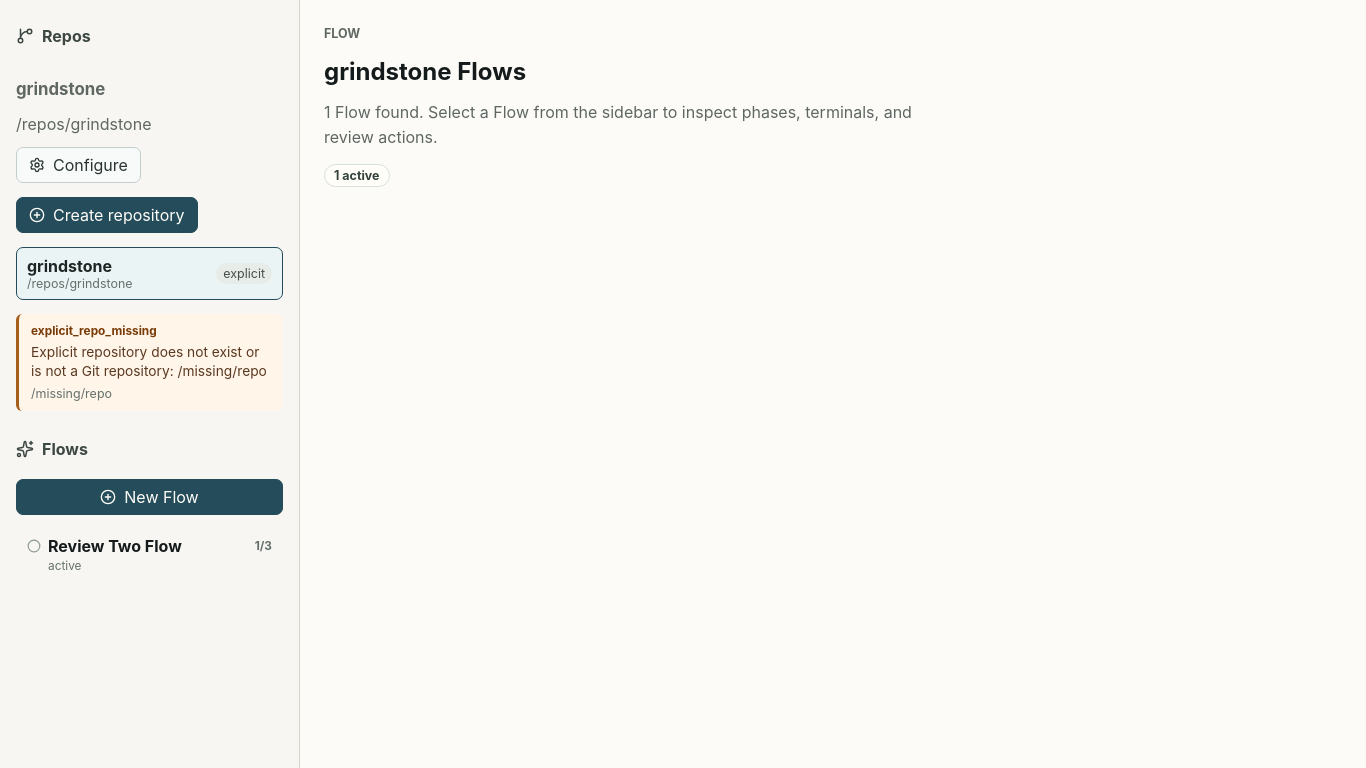
Test case: App shell › launches and completes Review Loop 2 before showing PR Creation metadata controls
Click the button "Review Two Flow 1/3 active".
click(150, 555)  # box [16, 527, 283, 582]
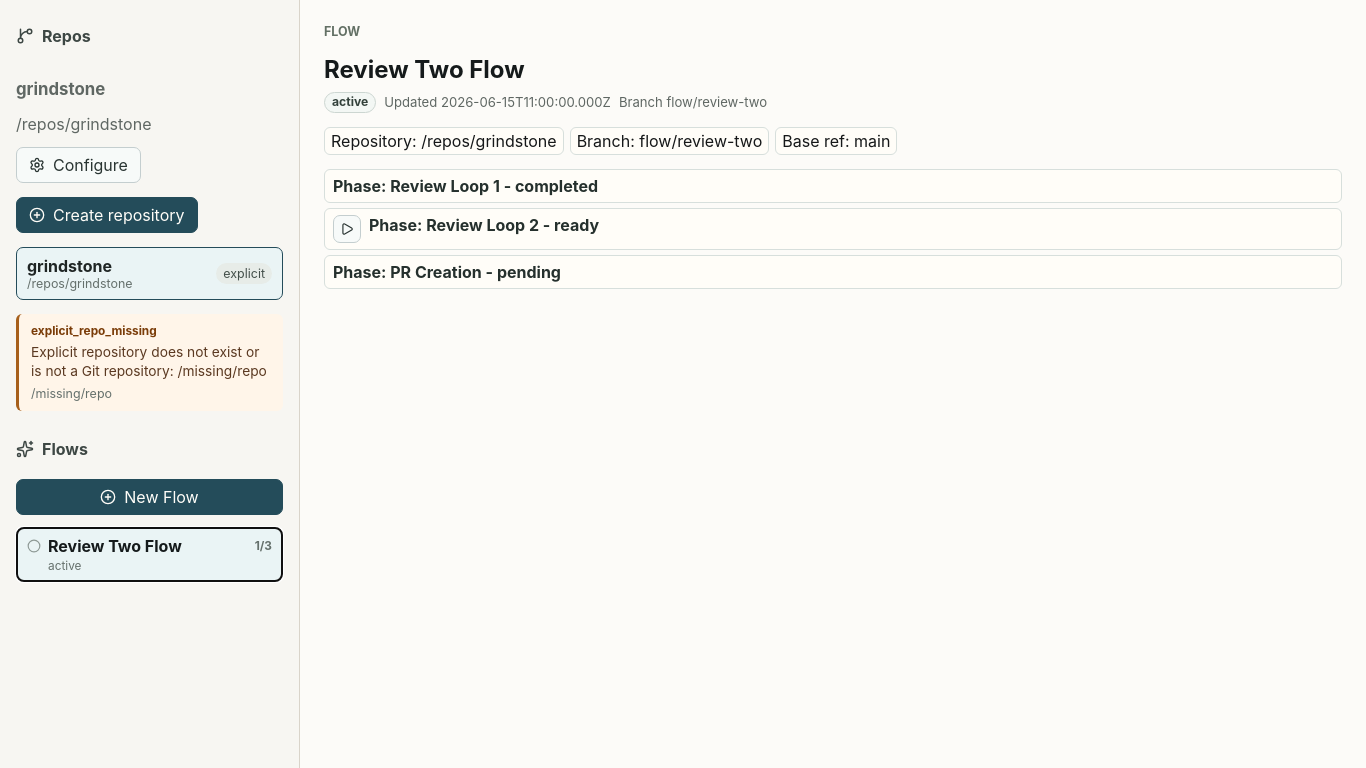
Now the button named "launch review loop 2" is shown
Click the button named "launch review loop 2".
click(347, 229)  # box [333, 215, 361, 243]
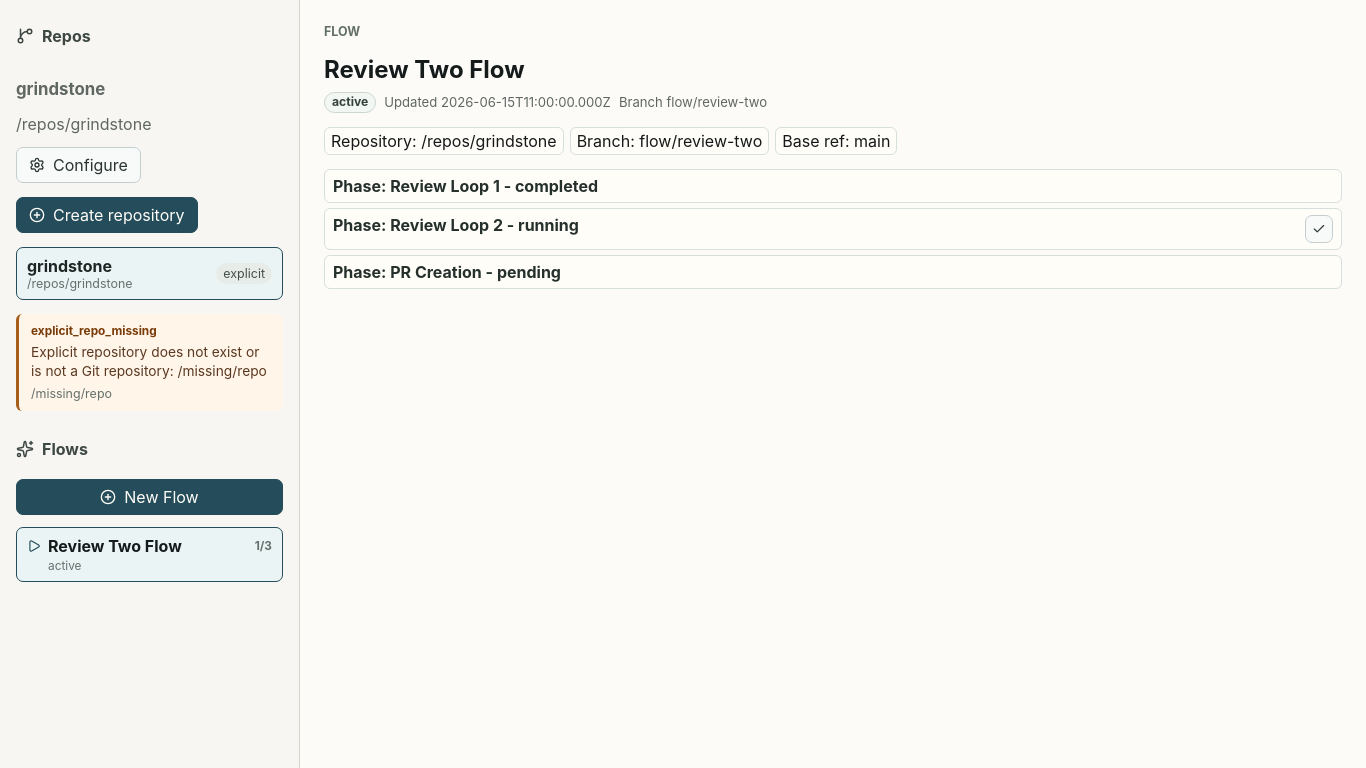
Click the button named "complete review loop 2".
click(1319, 229)  # box [1305, 215, 1333, 243]
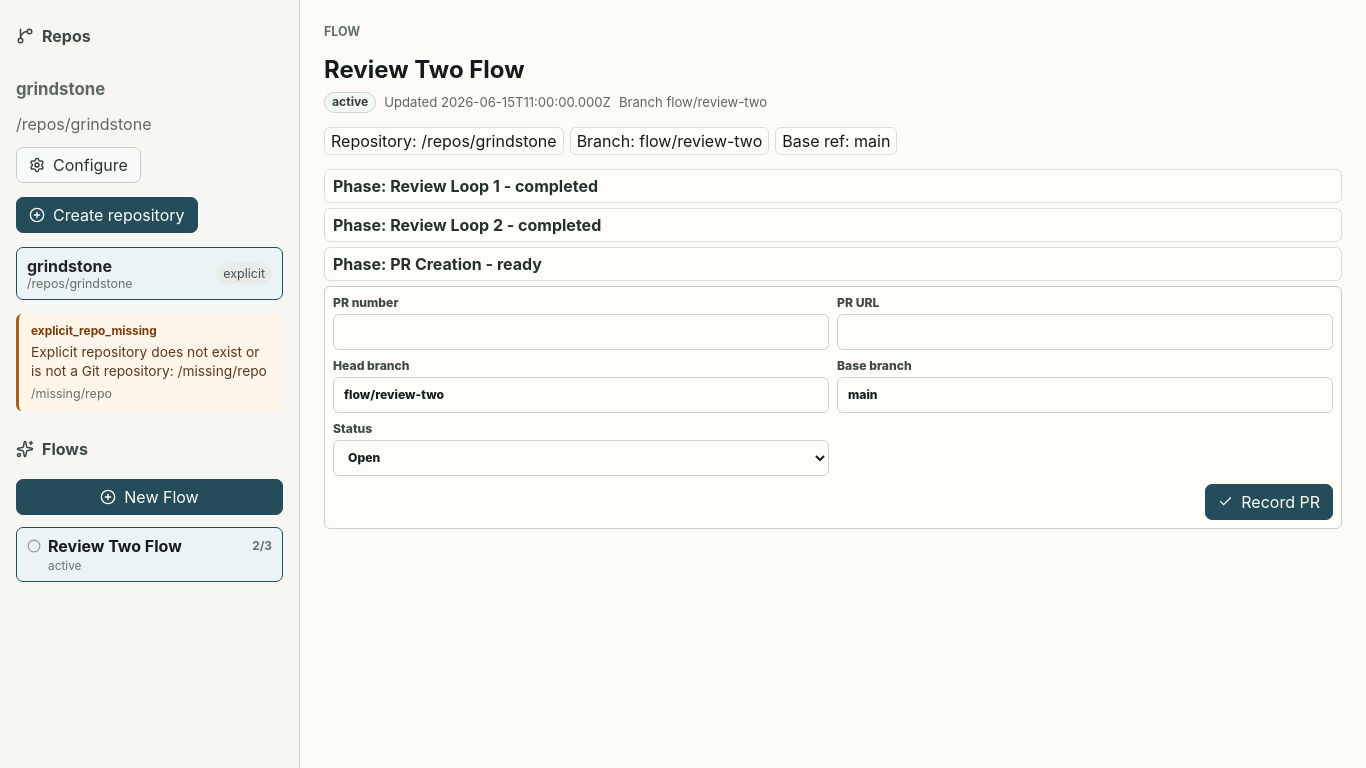
Now the form named "record pr for review two flow" is shown, box [324, 286, 1342, 529]
